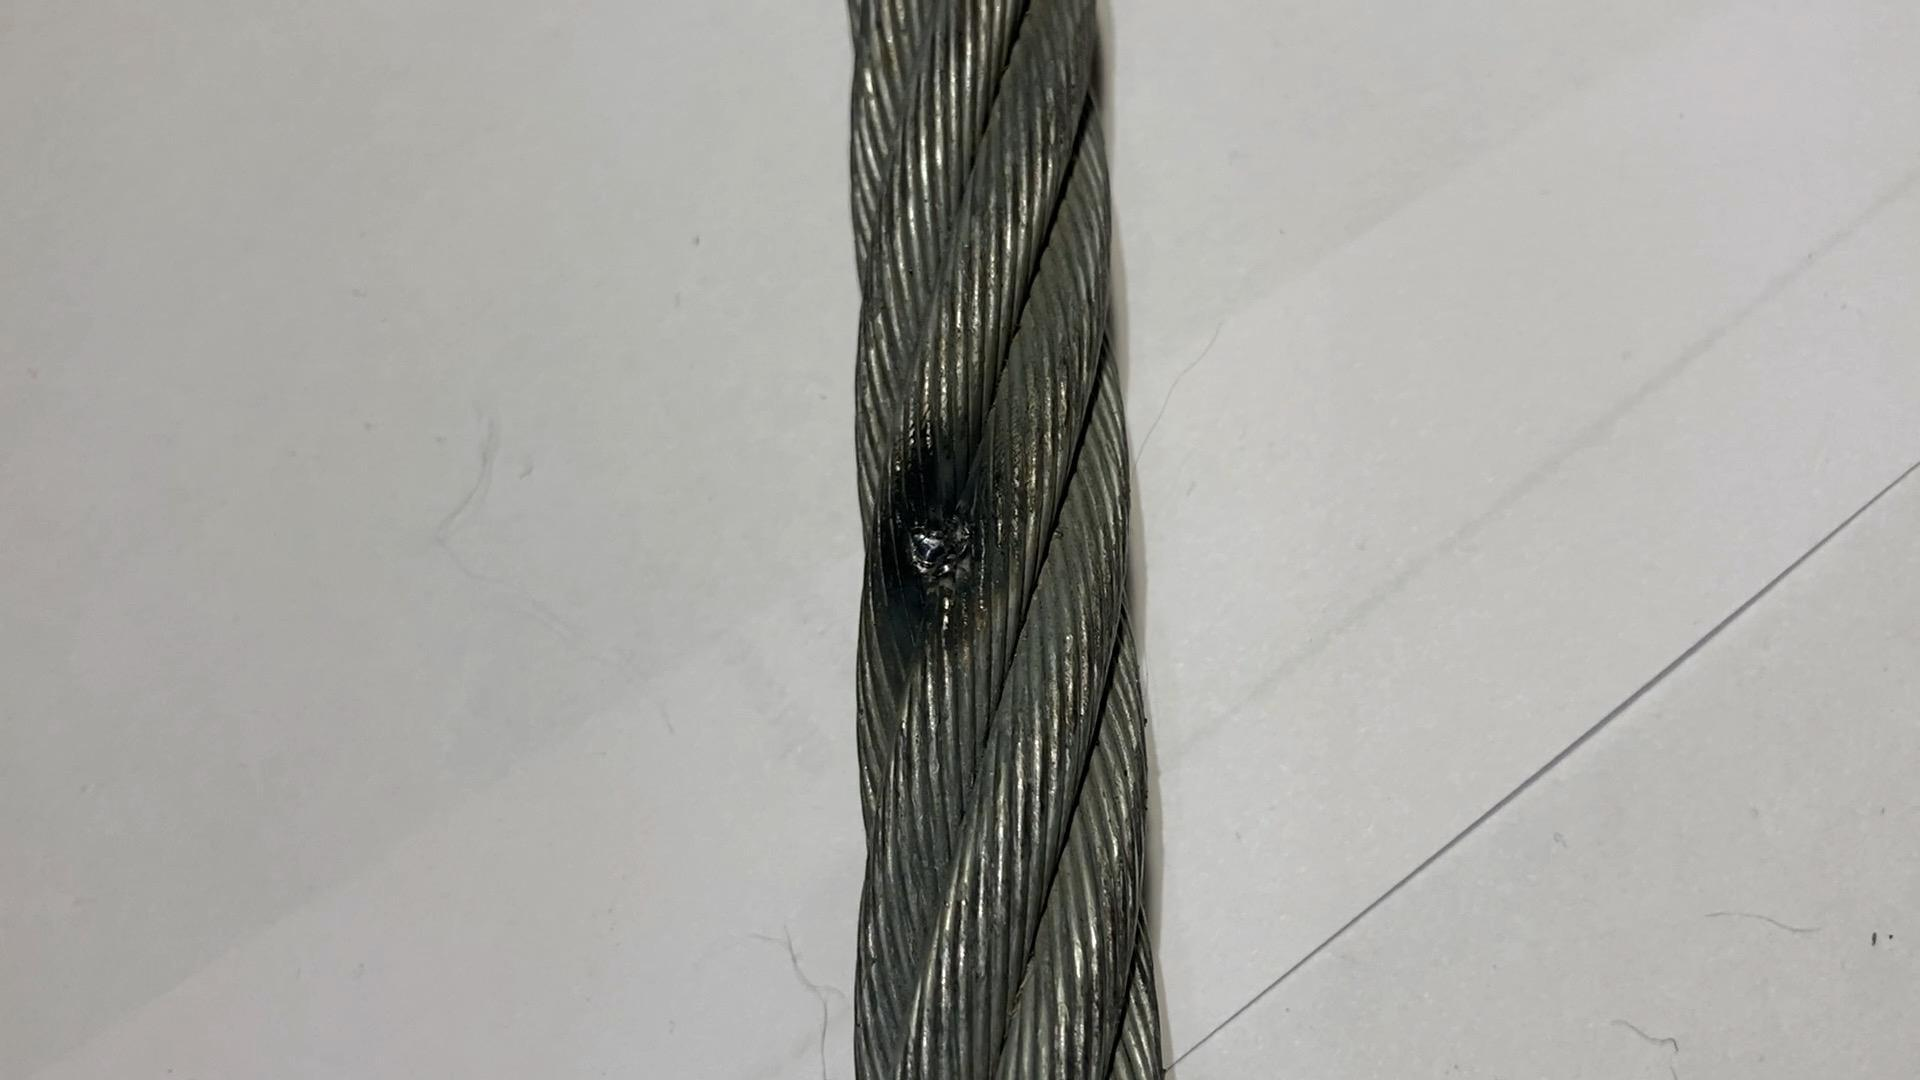thunderbolt: (885, 483, 1038, 653)
